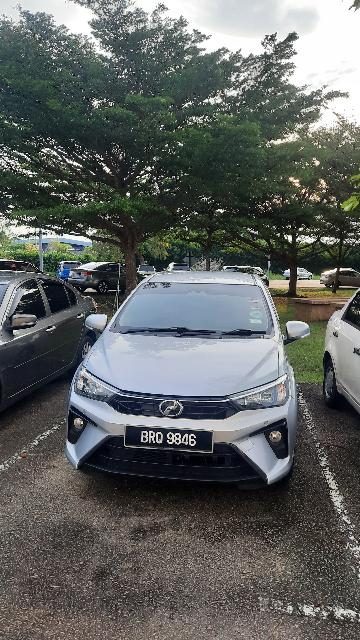License_Plate: (123, 423, 219, 455)
car: (60, 267, 318, 489)
